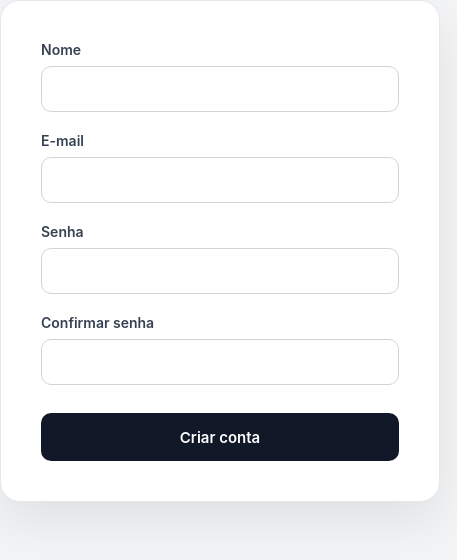
Scenario: RegisterForm › should display an error when the email is invalid
Type "email-invalido" into the field labelled "E-mail". click: (220,180)
box: [41,157,399,203]
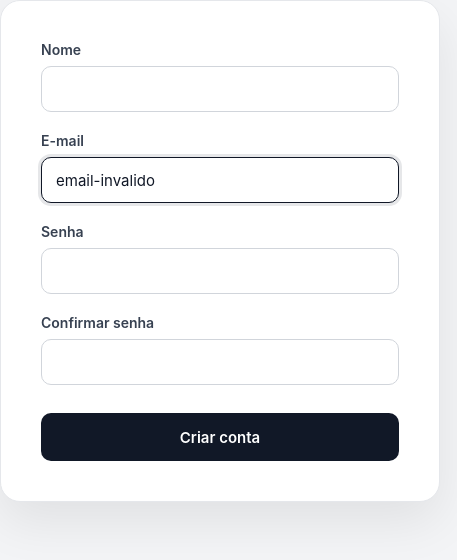
Press Tab
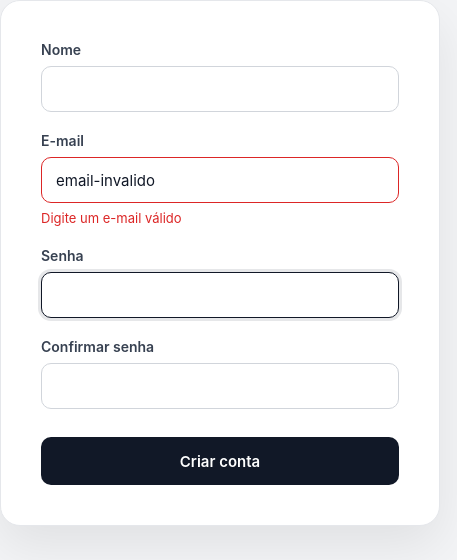
Expected: the text "Digite um e-mail válido" is shown, [41,210,182,226]
